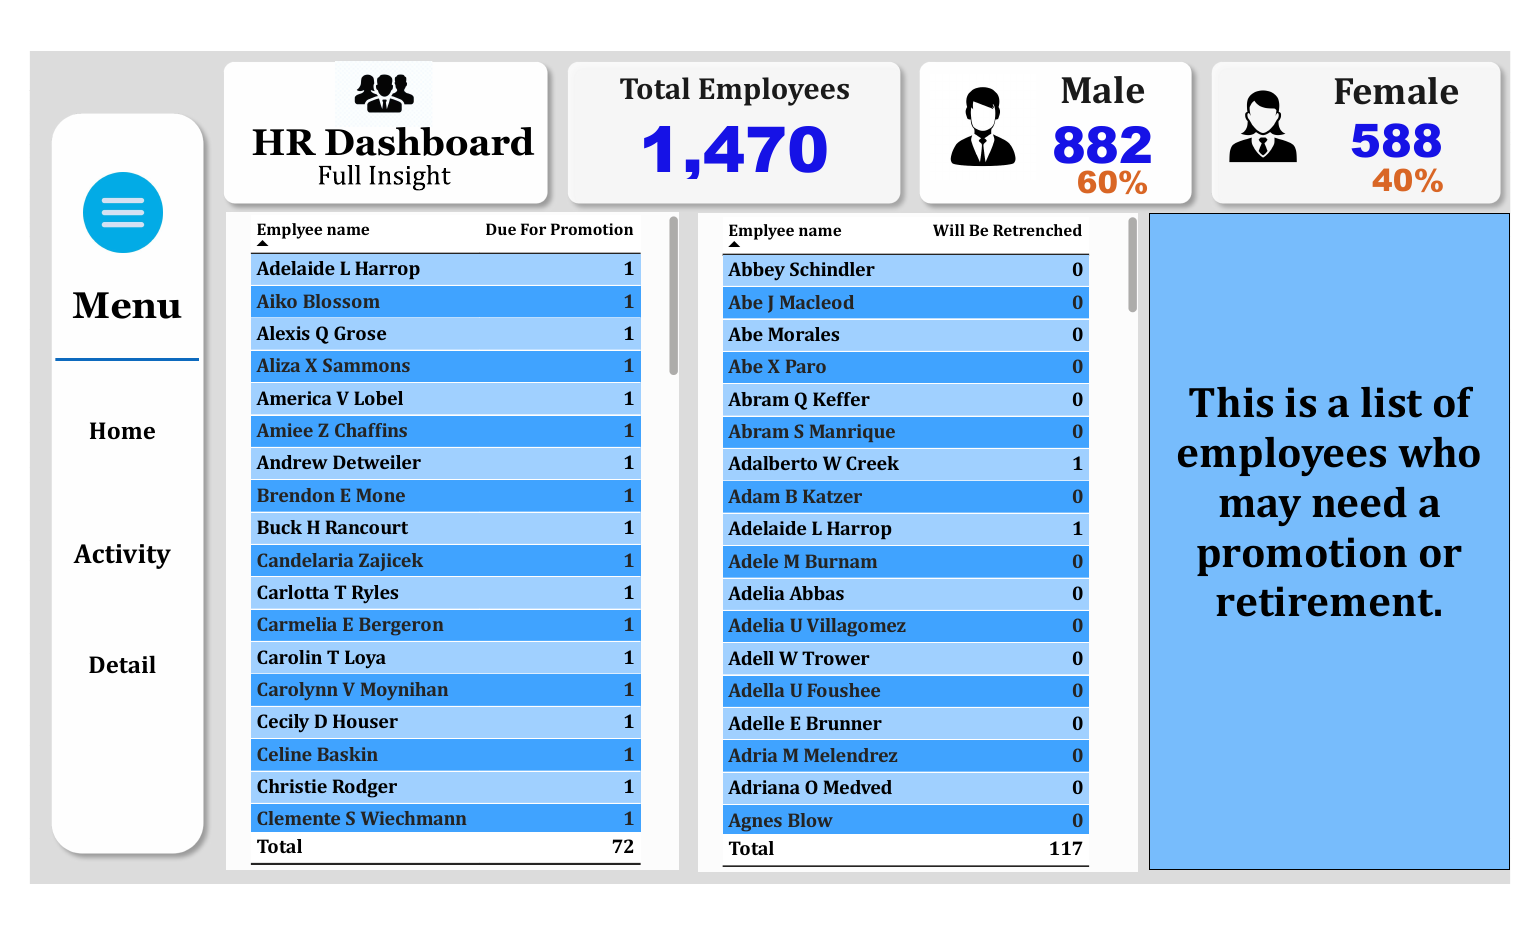

What the dashboard file says about the page in this screenshot:
{"tool":"powerbi","page":{"name":"Activity","canvas":[1280,720],"ordinal":1},"visuals":[{"type":"shape","box":[455.7,0,305.7,140],"z":0},{"type":"shape","box":[158.6,0,297.1,140],"z":1000},{"type":"shape","box":[761.4,0,251.4,140],"z":2000},{"type":"shape","box":[1012.9,0,267.1,140],"z":3000},{"type":"textbox","box":[140,55.7,340,60],"z":4000},{"type":"textbox","box":[155.7,87.1,300,44.3],"z":5000},{"type":"card","title":"Total Employees","fields":{"Values":["All Measures.Total Emp"]},"box":[487.5,16.8,243.8,98.5],"z":6000},{"type":"card","title":"Male","fields":{"Values":["All Measures.Male"]},"box":[815.7,12.9,224.3,92.9],"z":7000},{"type":"card","title":"Male","fields":{"Values":["All Measures.% male"]},"box":[824.3,85.7,224.3,55.7],"z":8000},{"type":"card","title":"Female","fields":{"Values":["All Measures.Female"]},"box":[1104.3,14.3,155.7,84.3],"z":9000},{"type":"card","title":"Male","fields":{"Values":["All Measures.% female"]},"box":[1104.3,84.3,175.7,55.7],"z":10000},{"type":"image","box":[1028.8,17.5,75,98.8],"z":11000},{"type":"image","box":[247.1,4.3,117.1,65.7],"z":12000},{"type":"image","box":[767.1,14.3,114.3,101.4],"z":13000},{"type":"tableEx","fields":{"Values":["HR Analytics Data.Emplyee name","All Measures.Due For Promotion"]},"box":[170.1,139.4,391.3,569],"z":14000},{"type":"tableEx","fields":{"Values":["HR Analytics Data.Emplyee name","All Measures.Will Be Retrenched"]},"box":[577.6,140.5,380.6,569.2],"z":15000},{"type":"textbox","box":[967.8,140.5,312.2,568],"z":16000},{"type":"shape","box":[10.2,44.8,148.3,657.3],"z":17000},{"type":"image","box":[40.9,95.9,79.3,85.7],"z":18000},{"type":"textbox","box":[14.1,196.9,131.7,60.1],"z":19000},{"type":"shape","box":[21.7,257,124,19.2],"z":20000},{"type":"pageNavigator","box":[24.3,276.2,111.2,300.5],"z":21000}]}

Visuals, with their boxes on the page's 1280x720 design canvas (x1, y1, x2, y2). These are canvas units, not pixel positions in the 1540x935 screenshot, which may show the page scaled, cropped or inside an application window:
shape: 456,0,761,140
shape: 159,0,456,140
shape: 761,0,1013,140
shape: 1013,0,1280,140
textbox: 140,56,480,116
textbox: 156,87,456,131
"Total Employees" card: 488,17,731,115
"Male" card: 816,13,1040,106
"Male" card: 824,86,1049,141
"Female" card: 1104,14,1260,99
"Male" card: 1104,84,1280,140
image: 1029,18,1104,116
image: 247,4,364,70
image: 767,14,881,116
tableEx - HR Analytics Data.Emplyee name x All Measures.Due For Promotion: 170,139,561,708
tableEx - HR Analytics Data.Emplyee name x All Measures.Will Be Retrenched: 578,140,958,710
textbox: 968,140,1280,708
shape: 10,45,158,702
image: 41,96,120,182
textbox: 14,197,146,257
shape: 22,257,146,276
pageNavigator: 24,276,136,577
